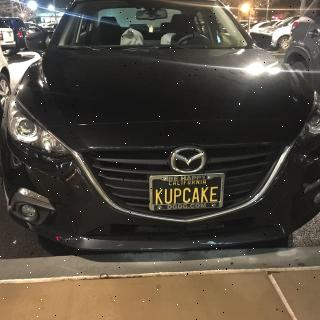license: (150, 174, 226, 212)
